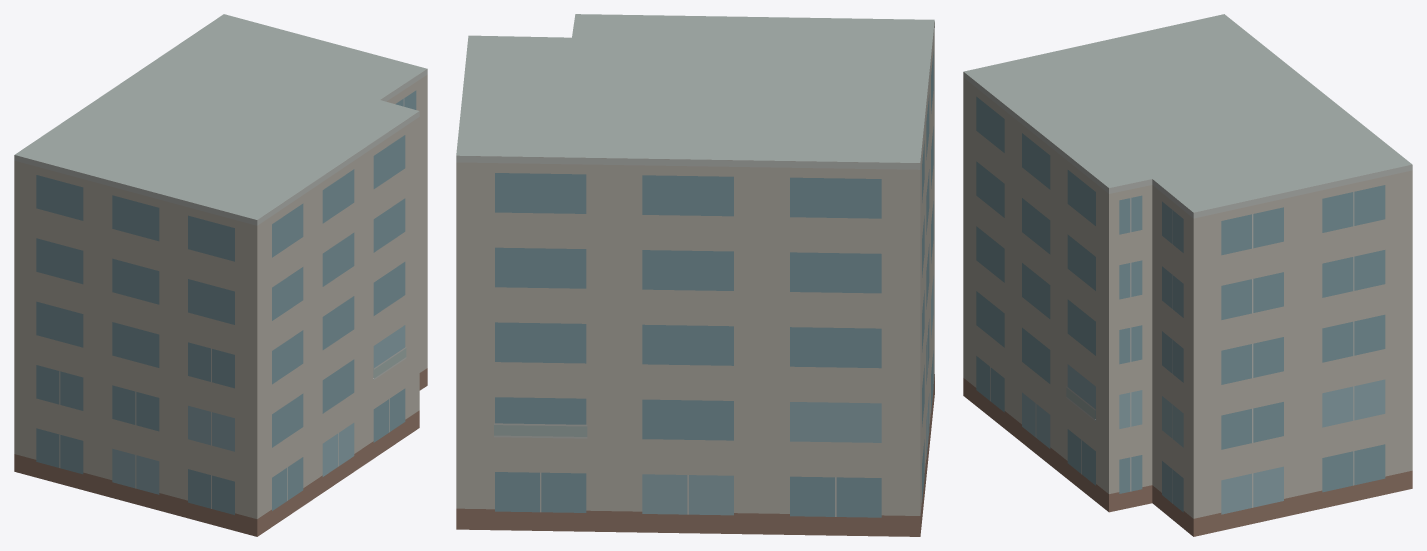
Rendered from survey-upis-32838943.glb.
3 renders of one model, left to right at view 1: azimuth 30°, elevation 25°; view 2: azimuth 150°, elevation 25°; view 3: azimuth 270°, elevation 25°, orthographic. The views are drawn at different scales.
Parts seen in each view (by area): view 1: survey-upis-32838943.tmp; view 2: survey-upis-32838943.tmp; view 3: survey-upis-32838943.tmp.
Part boxes in pixels (x1,y1,x2,y2): survey-upis-32838943.tmp: (14, 14, 427, 536); survey-upis-32838943.tmp: (456, 14, 934, 536); survey-upis-32838943.tmp: (963, 14, 1412, 536).
Bounding box in the file's own units: 17.76 × 13.5 × 16.96.
